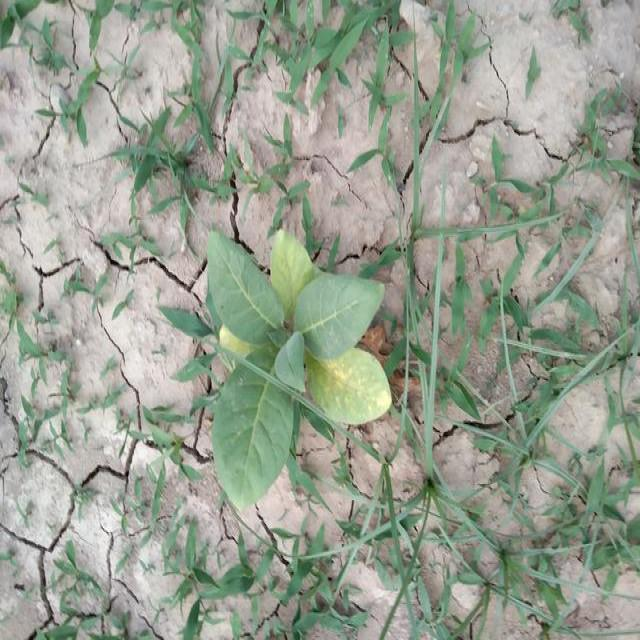crop: (198, 219, 391, 516)
